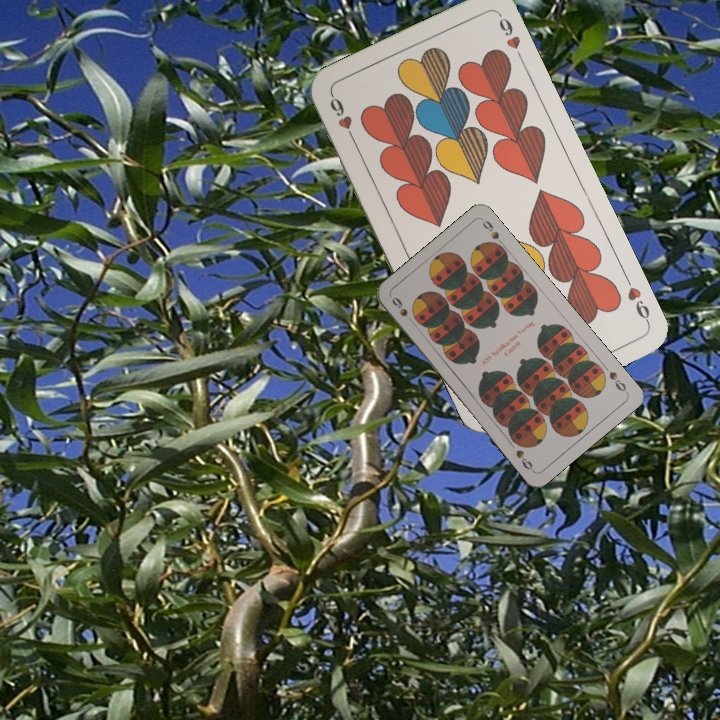H9: (325, 90, 359, 146), (620, 271, 653, 327)
S9: (388, 293, 417, 327), (605, 367, 630, 395)
